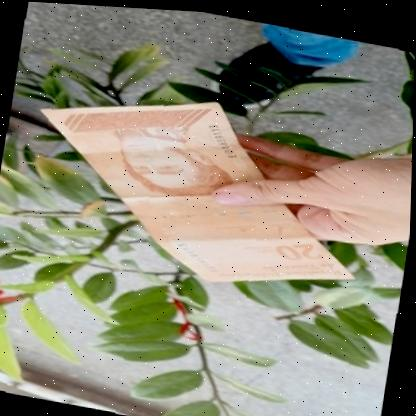vef_front: (18, 69, 378, 303)
